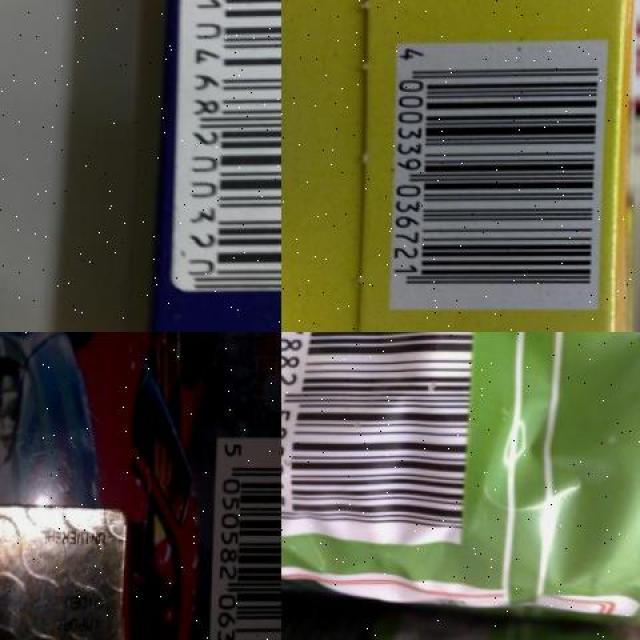Barcode: (392, 38, 612, 310), (281, 332, 487, 551), (174, 0, 282, 292), (207, 434, 281, 640)
